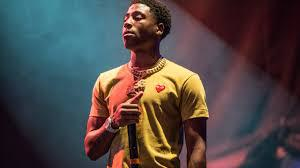quandale-dingle: (123, 2, 172, 49)
